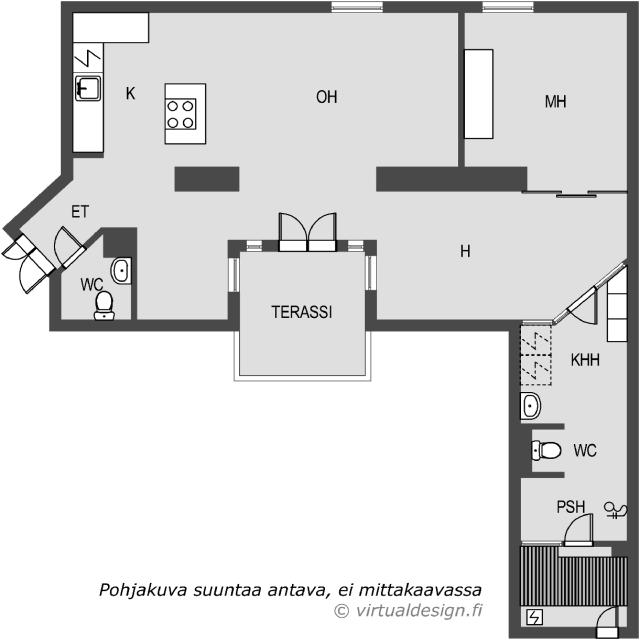door: (2, 237, 49, 306), (269, 210, 340, 246), (592, 599, 628, 640), (566, 504, 598, 550), (570, 292, 604, 335), (48, 225, 84, 261)
window: (590, 259, 627, 294), (358, 251, 383, 295), (326, 0, 387, 18), (478, 0, 544, 16), (520, 312, 571, 330), (220, 253, 242, 294), (519, 532, 562, 550), (240, 236, 263, 259), (342, 235, 366, 256)
zone: (60, 4, 464, 170), (370, 184, 637, 324), (460, 6, 629, 194), (512, 321, 639, 428), (510, 474, 632, 546), (63, 253, 130, 321), (507, 420, 570, 480)
